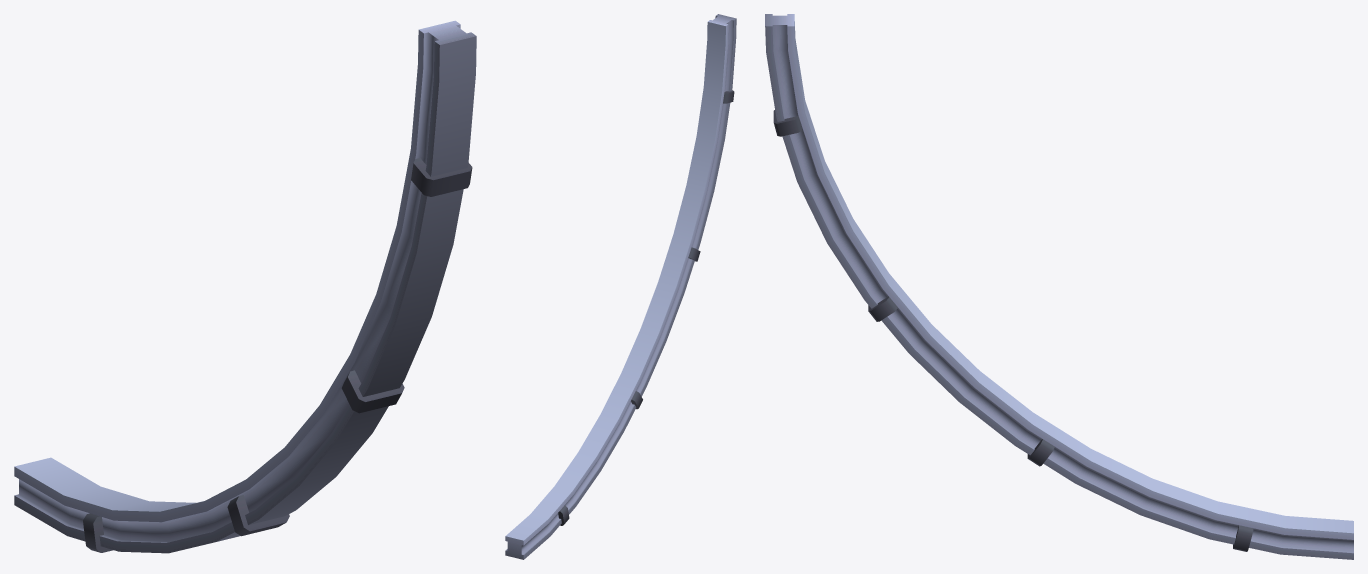
Rendered from coaster-monorail-straight-bend-large.glb.
3 renders of one model, left to right at view 1: azimuth 30°, elevation 25°; view 2: azimuth 150°, elevation 25°; view 3: azimuth 270°, elevation 25°, orthographic. The views are drawn at different scales.
Visible parts, largest first — view 1: coaster-monorail-straight-bend-large; view 2: coaster-monorail-straight-bend-large; view 3: coaster-monorail-straight-bend-large.
Boxes of the visible parts, x1,y1,x2,y2 form: coaster-monorail-straight-bend-large: (14, 20, 476, 553); coaster-monorail-straight-bend-large: (505, 14, 736, 559); coaster-monorail-straight-bend-large: (765, 14, 1353, 559).
Size of the model in its own units: 0.25 by 4 by 4.
1 material, 1 textured.
